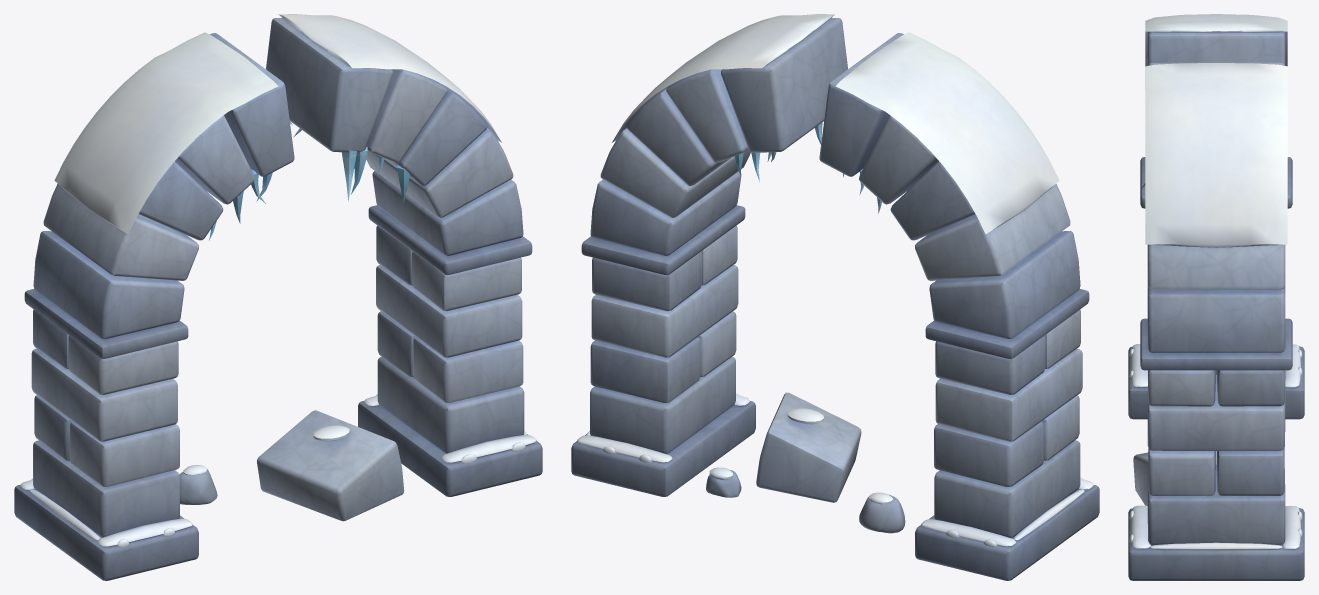
The model's file is FP_A02_RuinArch.fbx.
3 renders of one model, left to right at view 1: azimuth 30°, elevation 25°; view 2: azimuth 150°, elevation 25°; view 3: azimuth 270°, elevation 25°, orthographic. The views are drawn at different scales.
Visible parts, largest first — view 1: Arch_LOD0, Pillar_L_LOD0, Pillar_R_LOD0, Fragment_01_LOD0, Fragment_02_LOD0; view 2: Arch_LOD0, Pillar_L_LOD0, Pillar_R_LOD0, Fragment_01_LOD0, Fragment_02_LOD0, Fragment_03_LOD0; view 3: Arch_LOD0, Pillar_R_LOD0, Pillar_L_LOD0, Fragment_01_LOD0.
Part boxes in pixels (box(x1,y1,x2,y2)): Arch_LOD0: box(33, 14, 523, 339); Pillar_L_LOD0: box(14, 289, 198, 580); Pillar_R_LOD0: box(358, 205, 542, 496); Fragment_01_LOD0: box(257, 410, 404, 521); Fragment_02_LOD0: box(179, 465, 217, 504); Arch_LOD0: box(590, 14, 1080, 339); Pillar_L_LOD0: box(915, 289, 1099, 580); Pillar_R_LOD0: box(571, 205, 755, 496); Fragment_01_LOD0: box(756, 392, 861, 502); Fragment_02_LOD0: box(859, 492, 905, 533); Fragment_03_LOD0: box(706, 467, 741, 497); Arch_LOD0: box(1140, 14, 1287, 352); Pillar_R_LOD0: box(1128, 318, 1304, 580); Pillar_L_LOD0: box(1128, 157, 1304, 419); Fragment_01_LOD0: box(1133, 451, 1216, 505).
Size of what is drawn, in the model's own units: 5 by 4.88 by 1.8.
